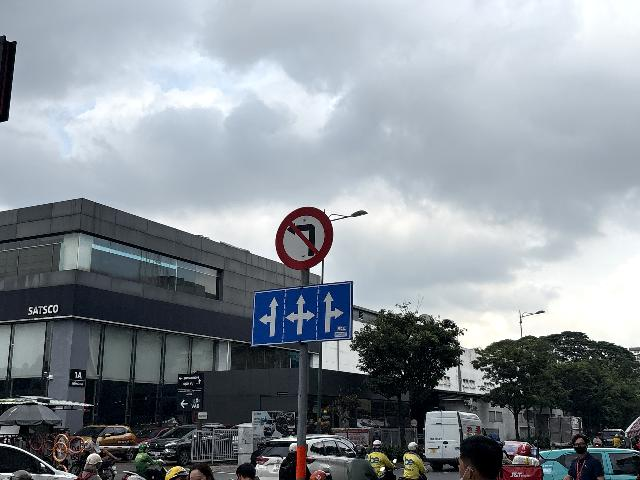cam-re-trai: (275, 205, 333, 270)
